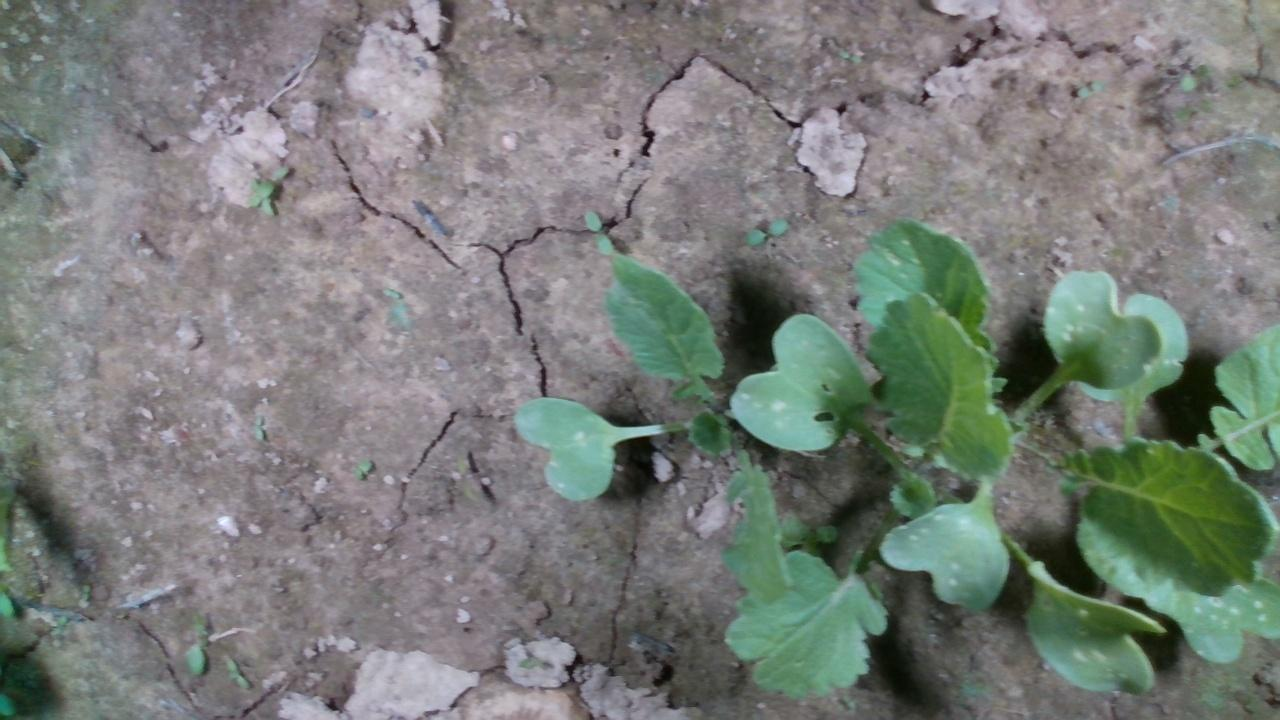weed: (573, 203, 621, 260), (738, 210, 784, 250), (221, 653, 251, 690)
